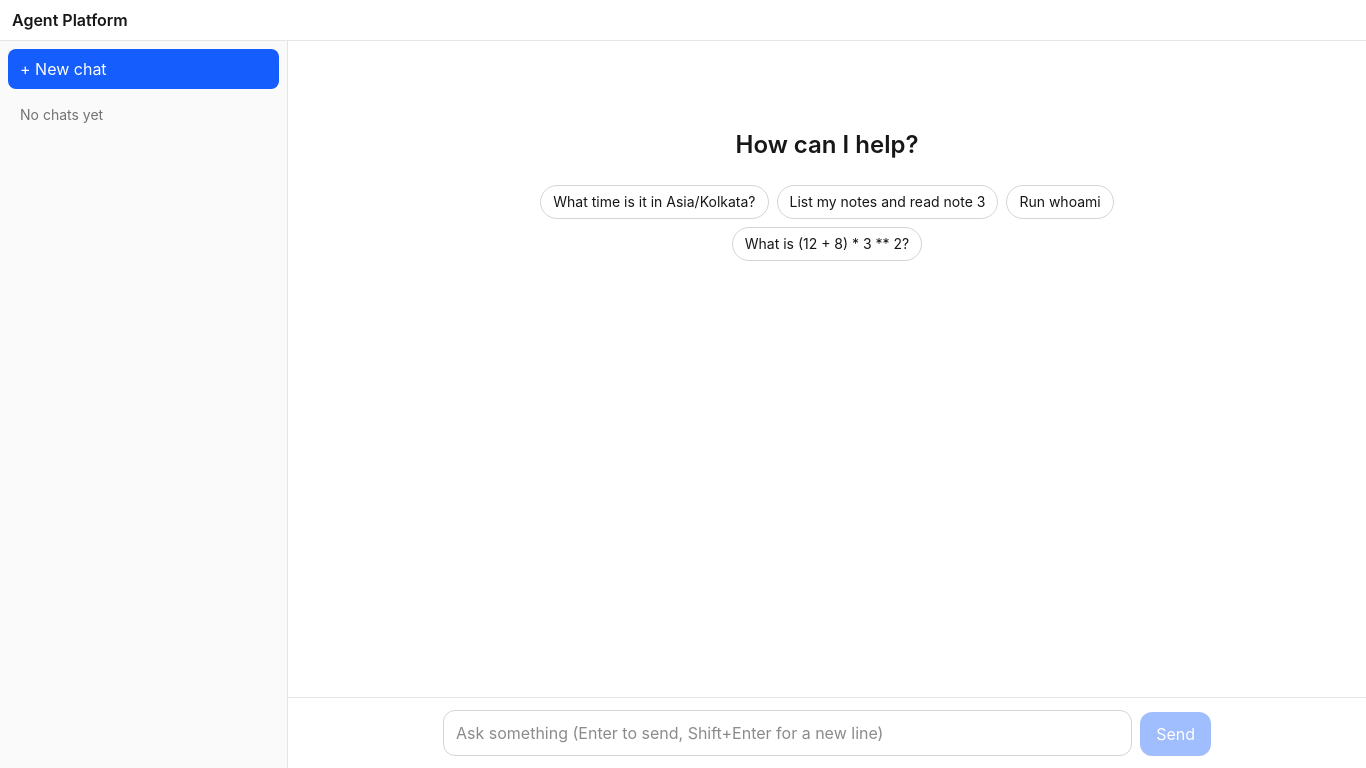
it: chat UI › Stop aborts the stream and keeps the partial text
Type "long" into the text box named "Message" at (788, 733), box [443,710,1132,756]
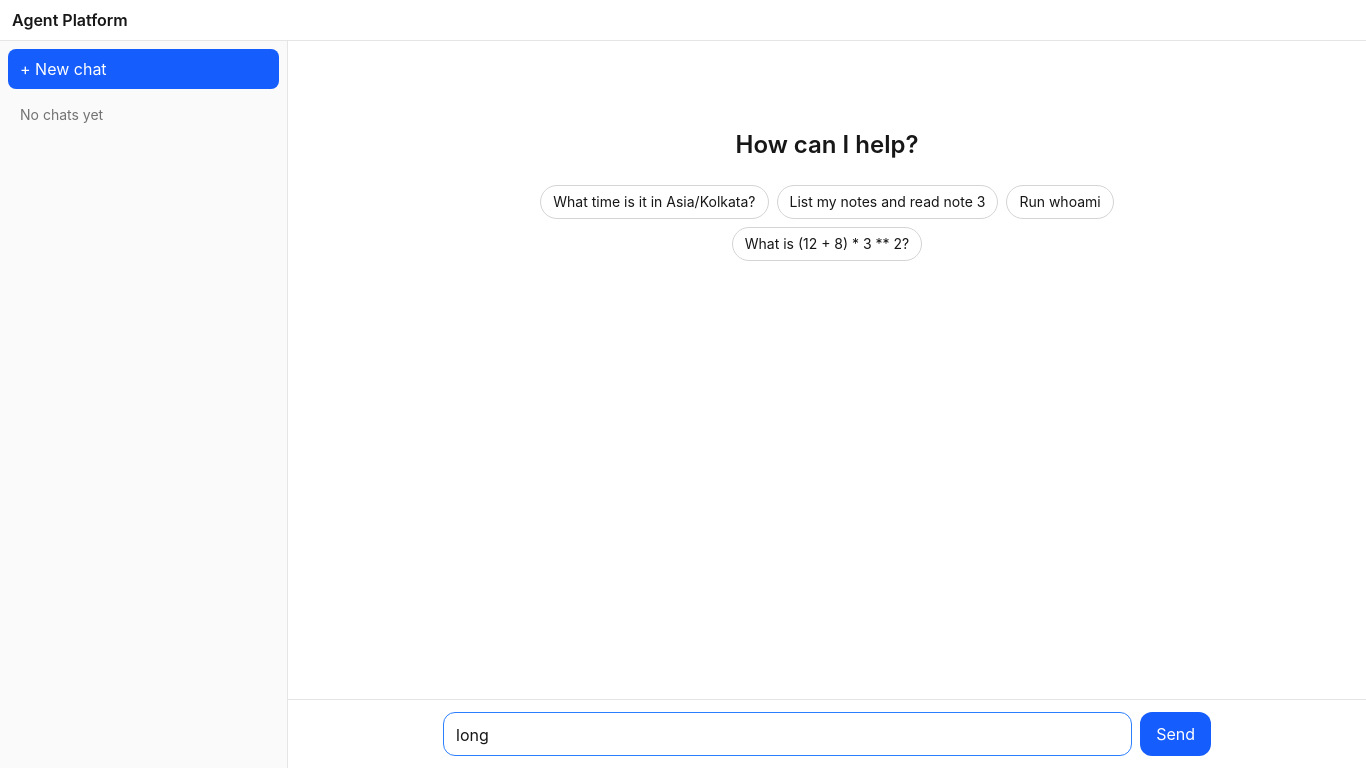
Click the button "Send" at (1176, 734), box [1140,712,1211,756]
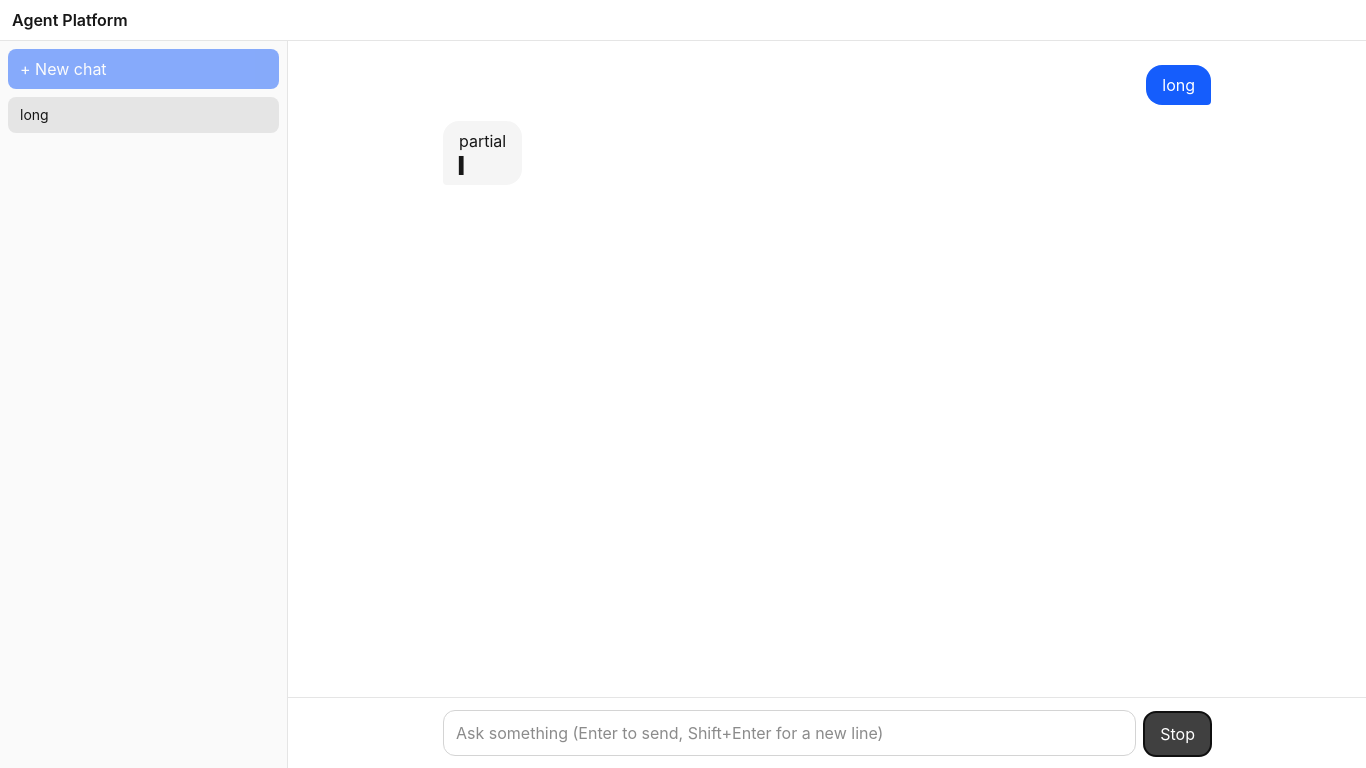
Check: the text "partial" is shown, box [459,129,506,153]
Click the button "Stop" at (1178, 734), box [1144,712,1211,756]
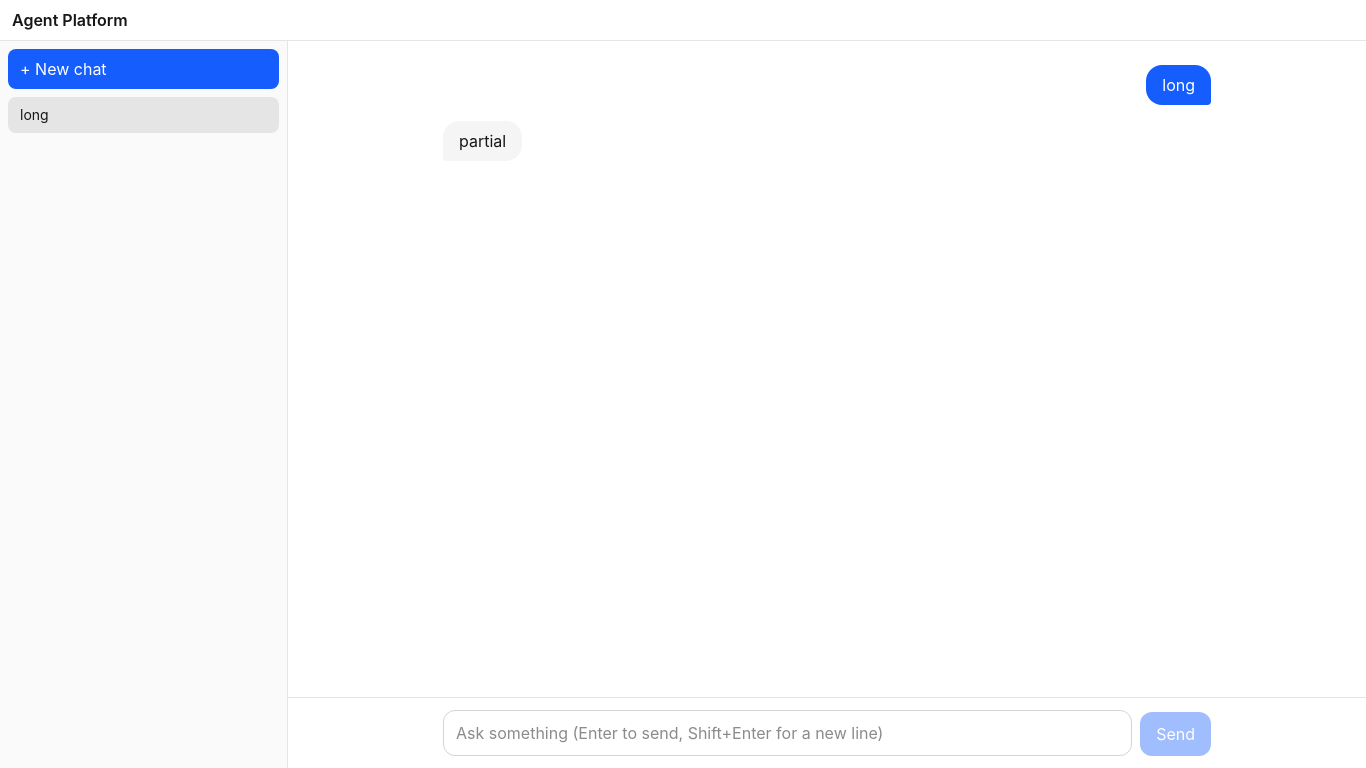
Check: the text "partial" is shown, box [459,129,506,153]
Check: the button "Send" is shown, box [1140,712,1211,756]
